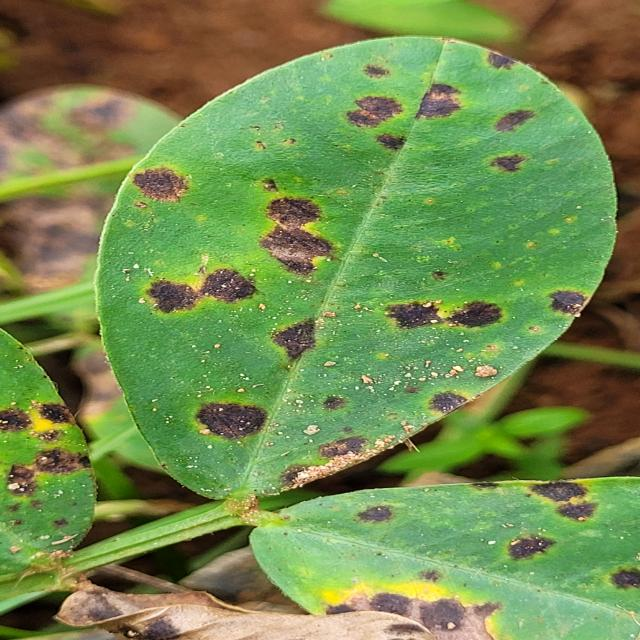Ground nut_tikka leaf spot: (101, 38, 610, 503), (254, 459, 640, 640), (0, 332, 113, 591)
